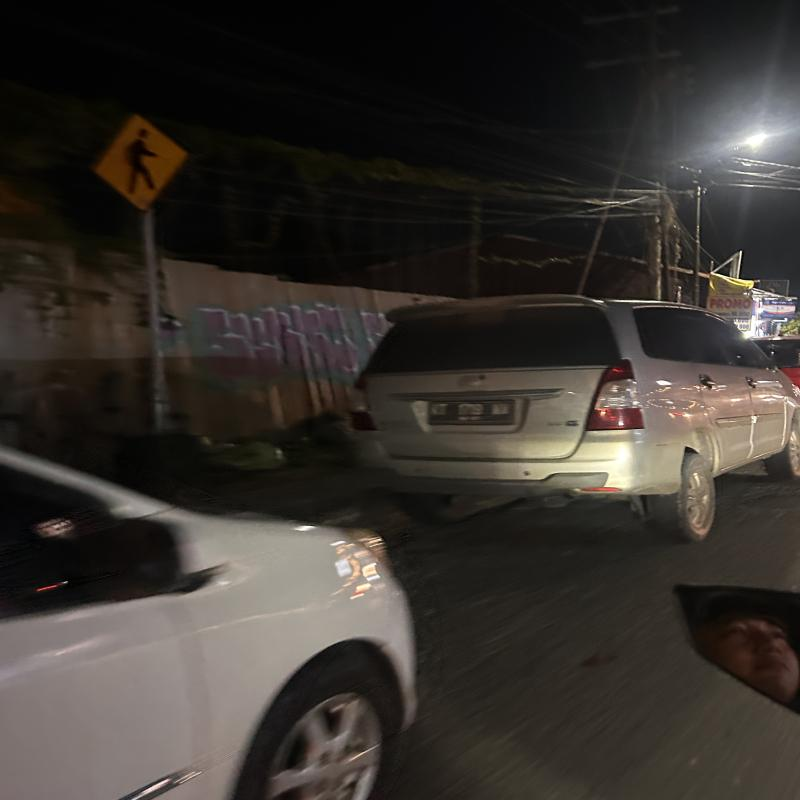license plate on a car: (415, 389, 533, 431)
